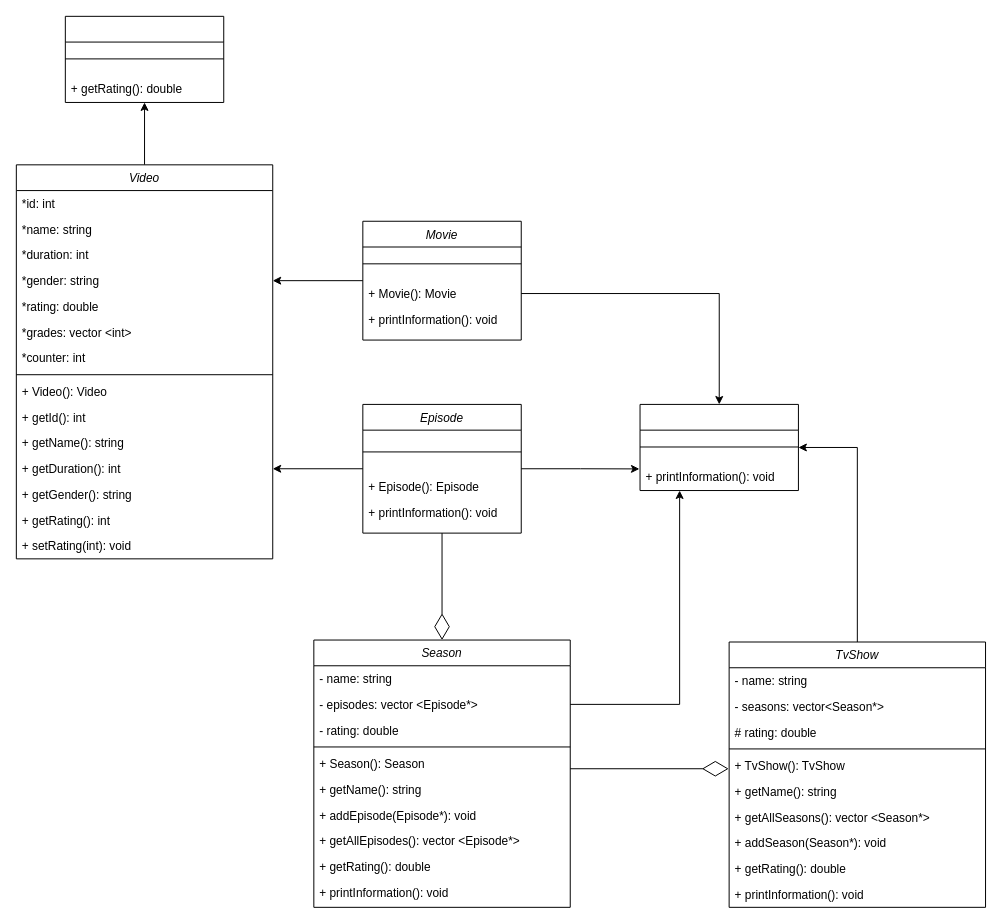
This 1002x924 diagram has some shape labels left out. Here are the shapes that lost their labels. From the top down, the box of each, then its label:
(64, 15, 224, 102): Rateable
(639, 403, 798, 491): Printable
